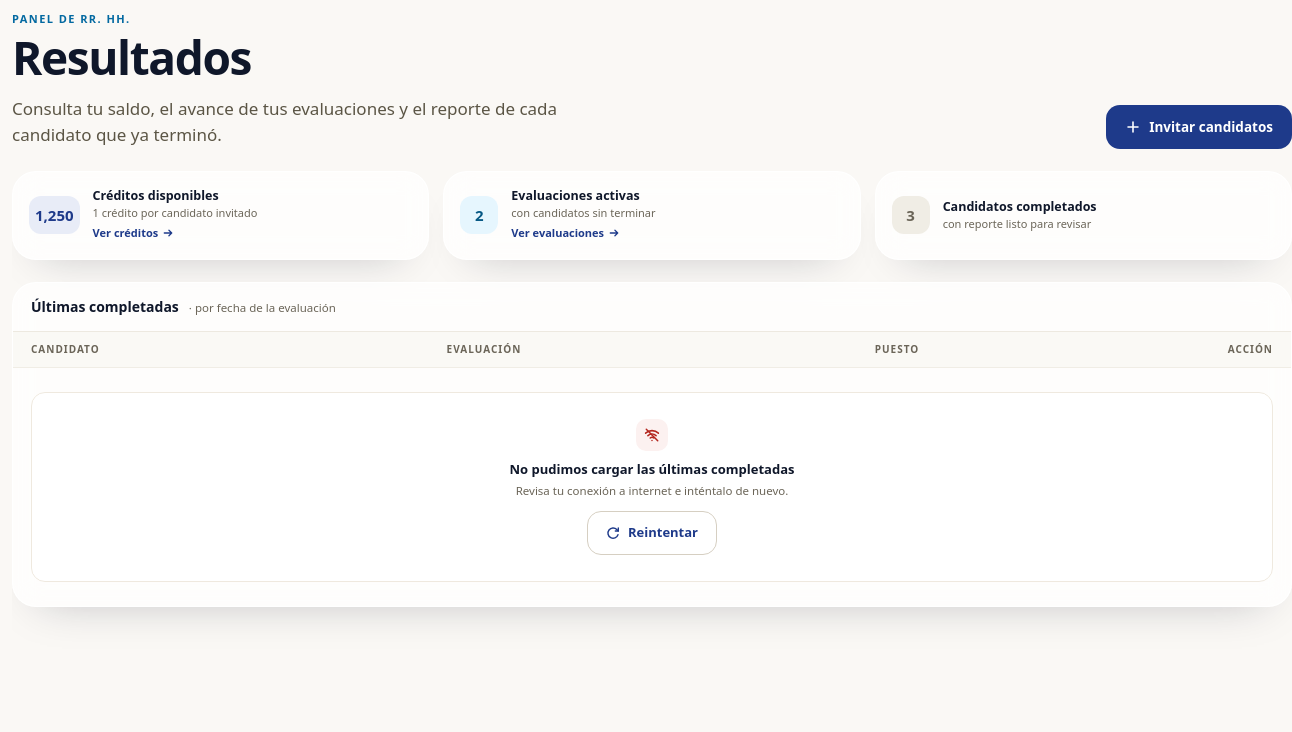
Test: ResumenPage · «Últimas completadas» (agregación limitada, PB-05) › si fallan todos los detalles: EstadoError en la tabla; las cifras siguen y «Reintentar» pide de nuevo
This screenshot has width=1292, height=732.
Expected: the message shows "No pudimos cargar las últimas completadas", x1=510 y1=460 x2=794 y2=478
Expected: the message shows "Revisa tu conexión a internet e inténtalo de nuevo.", x1=516 y1=483 x2=788 y2=498
Click the button "Reintentar".
click(652, 533)  # box x1=587 y1=511 x2=717 y2=555
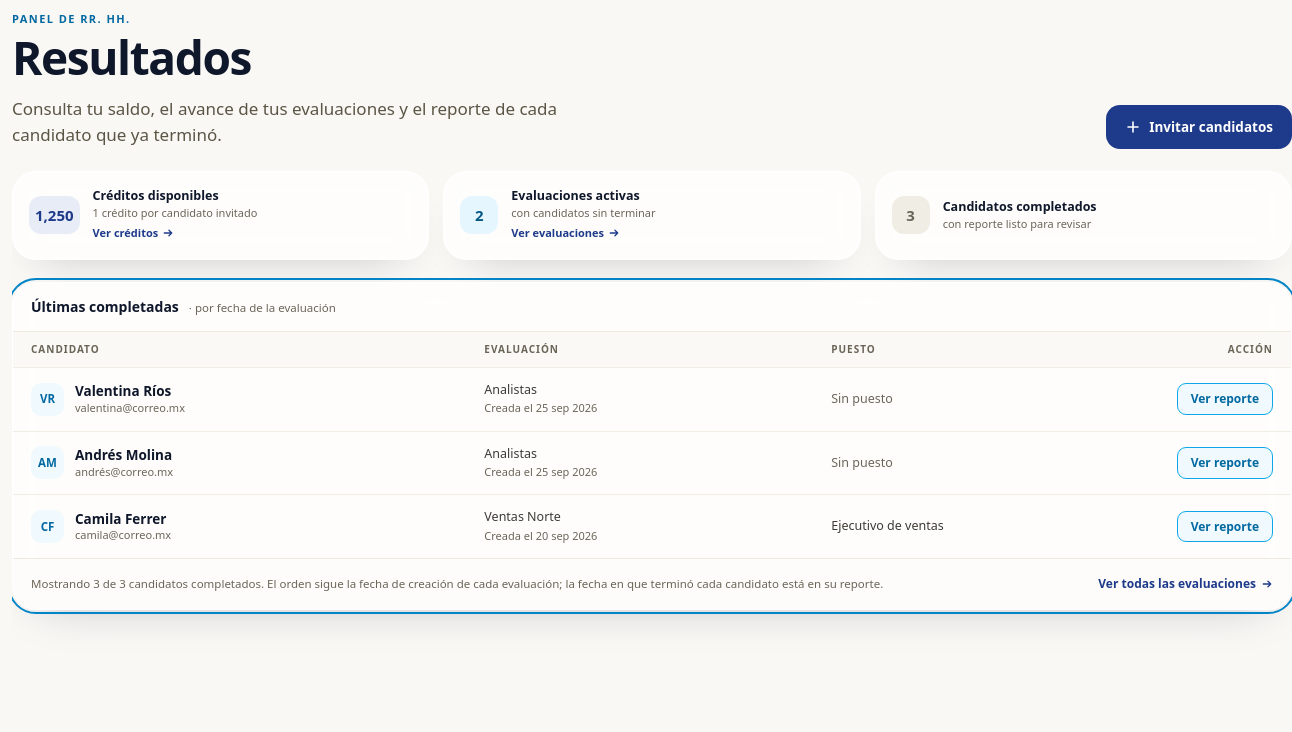
Result: the message is gone
